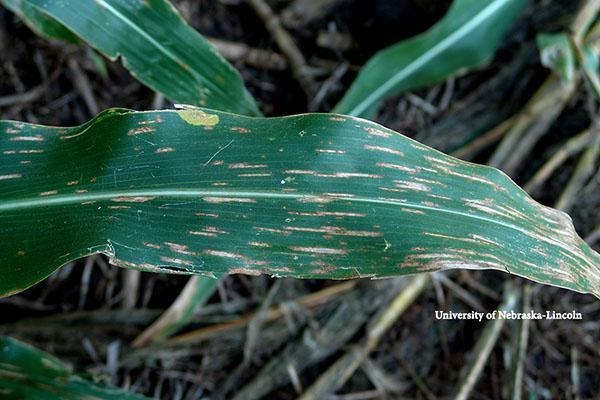Corn_Blight: (212, 111, 593, 236), (142, 235, 600, 307), (5, 108, 92, 205), (111, 92, 192, 168), (44, 245, 136, 284), (104, 193, 164, 213)
